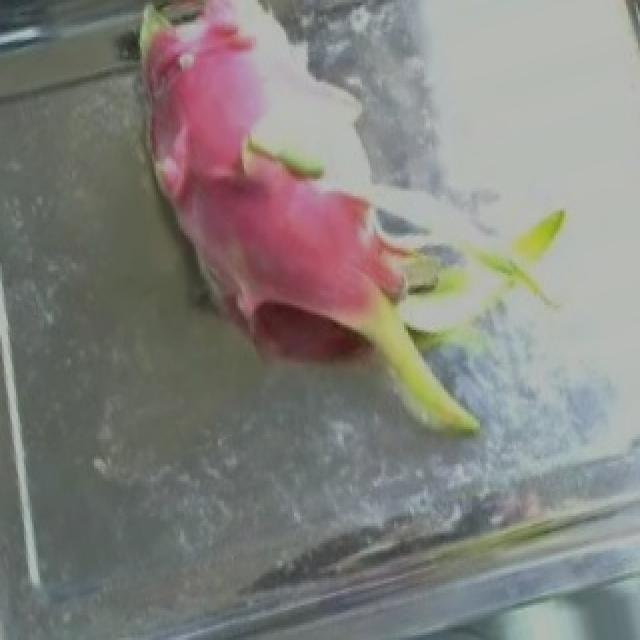fruit: (140, 35, 590, 486)
